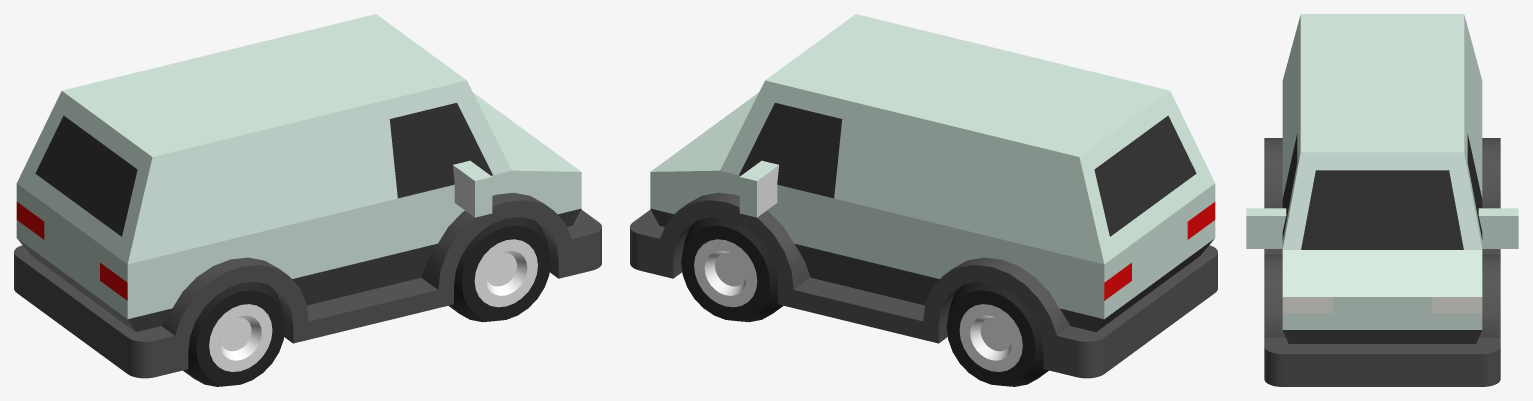
File: 22 Ven.FBX
The picture shows the model from 3 angles, left to right: view 1: azimuth 30°, elevation 25°; view 2: azimuth 150°, elevation 25°; view 3: azimuth 270°, elevation 25°; orthographic projection. The views are drawn at different scales.
Parts seen in each view (by area): view 1: body, wheel_backRight, wheel_frontRight; view 2: body, wheel_backLeft, wheel_frontLeft; view 3: body.
Part boxes in pixels (x1,y1,x2,y2): body: [14, 14, 601, 378]; wheel_backRight: [183, 282, 285, 386]; wheel_frontRight: [448, 217, 550, 322]; body: [630, 14, 1217, 378]; wheel_backLeft: [946, 282, 1048, 386]; wheel_frontLeft: [681, 217, 783, 322]; body: [1246, 14, 1518, 386].
Size of the model in its own units: 675 by 325 by 375.
